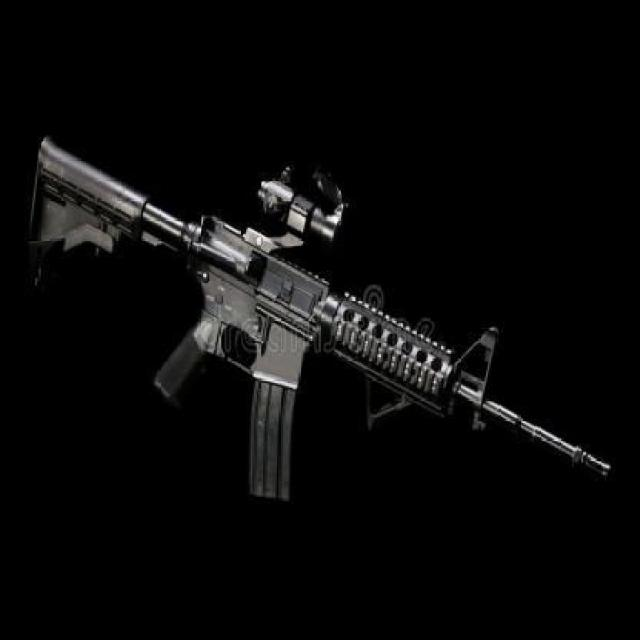weapon: (37, 114, 621, 546)
